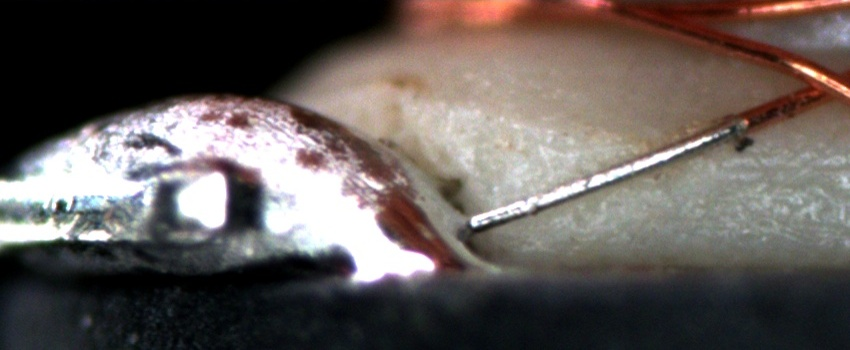CL: (777, 56, 847, 113)
DL: (716, 137, 849, 193)
TS: (469, 119, 740, 231)
